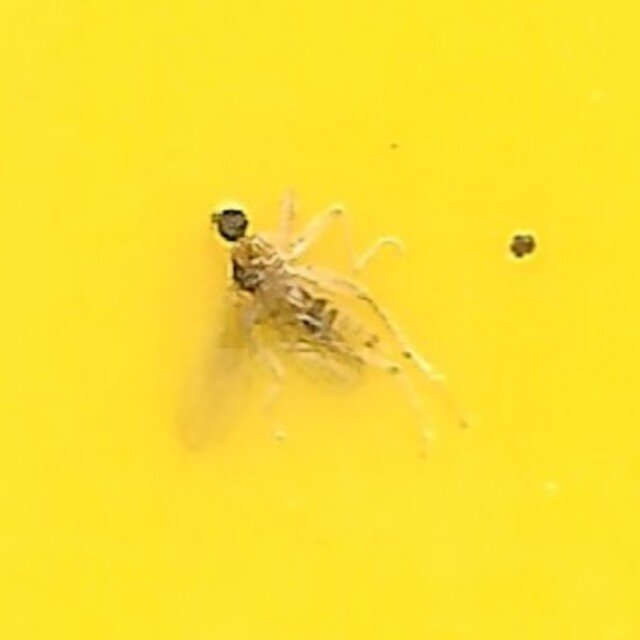Brachycera: (184, 195, 456, 445)
